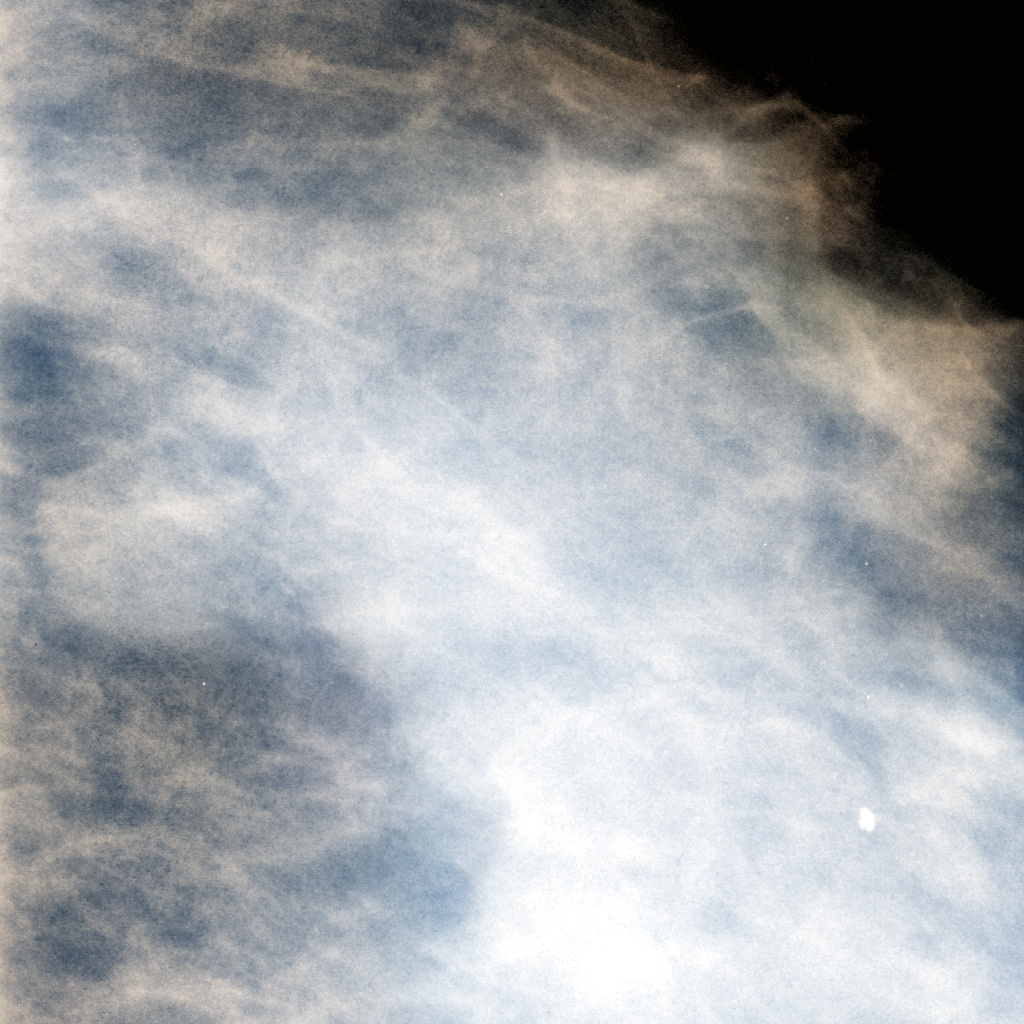tumor: (51, 368, 301, 656)
